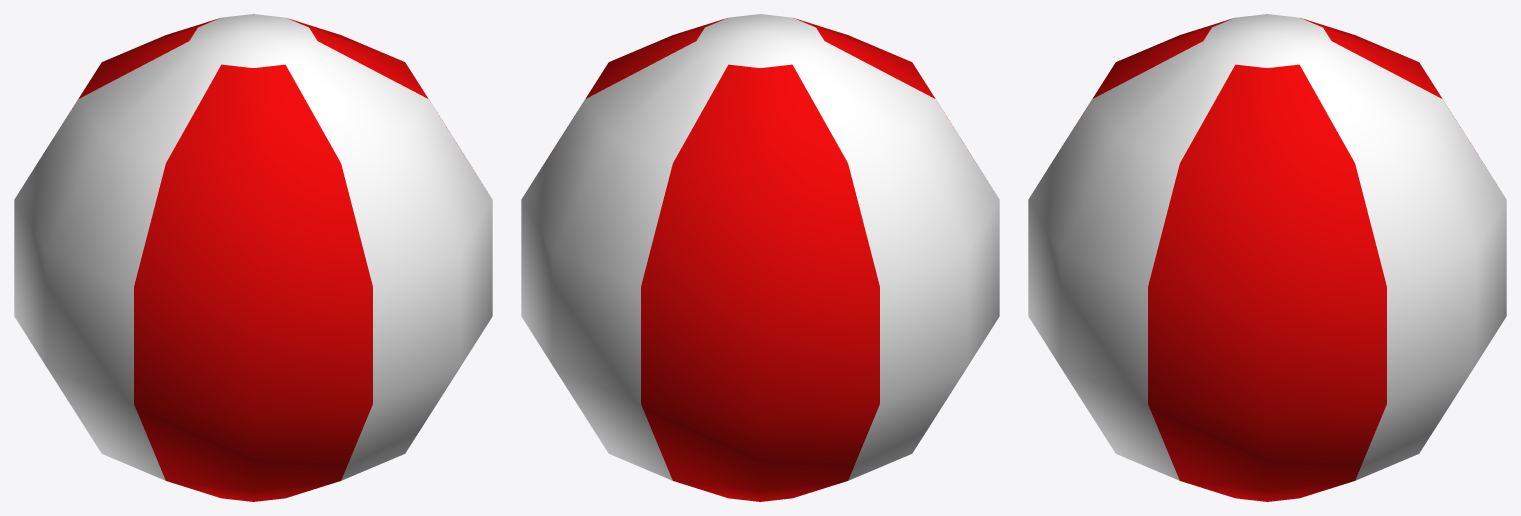
Rendered from BeachBall_Low.fbx.
3 renders of one model, left to right at view 1: azimuth 30°, elevation 25°; view 2: azimuth 150°, elevation 25°; view 3: azimuth 270°, elevation 25°, orthographic.
Visible parts, largest first — view 1: BeachBall4; view 2: BeachBall4; view 3: BeachBall4.
Boxes of the visible parts, left/top/right/bottom form: BeachBall4: left=14, top=14, right=492, bottom=501; BeachBall4: left=521, top=14, right=999, bottom=501; BeachBall4: left=1028, top=14, right=1506, bottom=501.
Bounding box in the file's own units: 58.88 × 60.96 × 58.88.
